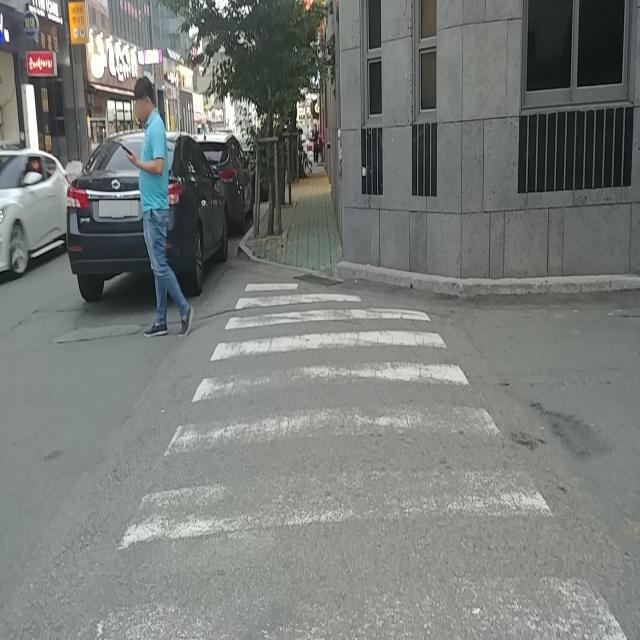횡단보도: (95, 275, 633, 640)
